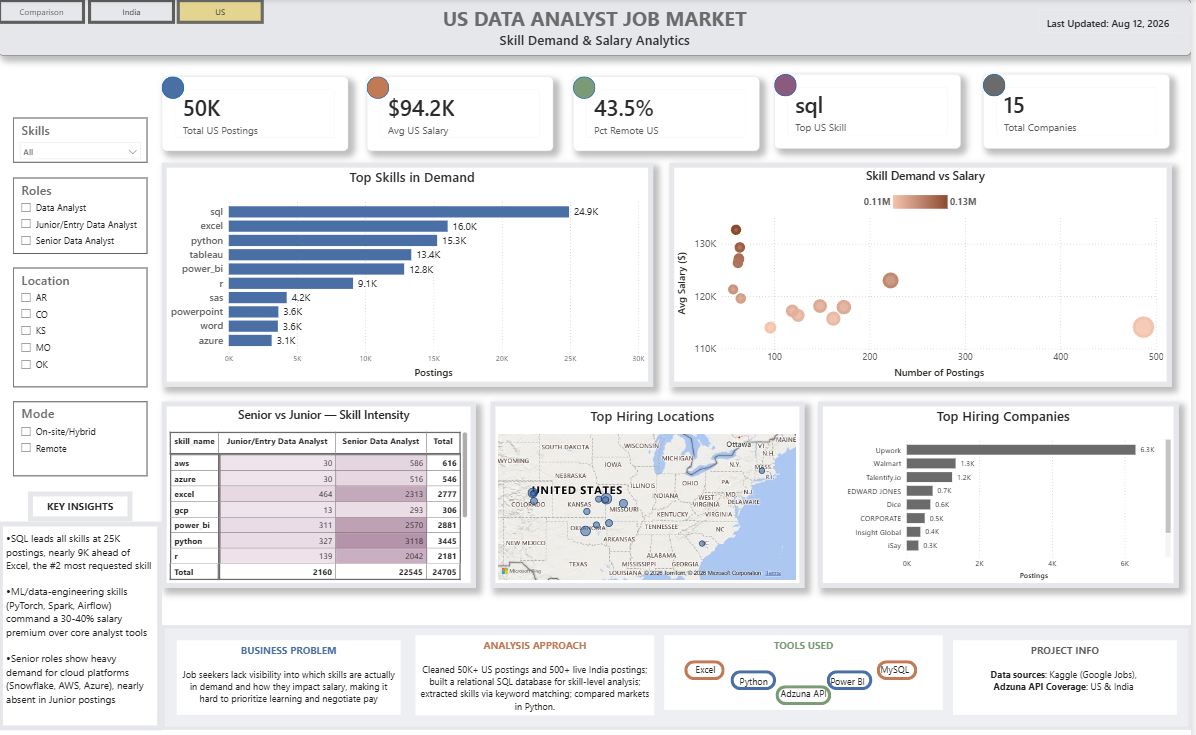

The page's visual inventory and layout, read from the dashboard file:
{"tool":"powerbi","page":{"name":"US overview","canvas":[1920,1200],"ordinal":0},"visuals":[{"type":"textbox","box":[0,0,1920,91],"z":0},{"type":"cardVisual","fields":{"Data":["_Measures.Top US Skill"]},"box":[1248,120,300,120],"z":0,"group":"g4"},{"type":"cardVisual","fields":{"Data":["Parameter.Total Companies"]},"box":[1584,120,300,120],"z":0,"group":"g5"},{"type":"cardVisual","fields":{"Data":["_Measures.Total US Postings"]},"box":[264,124.8,300,120],"z":0,"group":"g1"},{"type":"cardVisual","fields":{"Data":["_Measures.Avg US Salary"]},"box":[594,124.8,300,120],"z":0,"group":"g2"},{"type":"cardVisual","fields":{"Data":["_Measures.Pct Remote US"]},"box":[924,124.8,300,120],"z":0,"group":"g3"},{"type":"shape","box":[1248,120,36,36],"z":1000,"group":"g4"},{"type":"shape","box":[1584,120,36,36],"z":1000,"group":"g5"},{"type":"shape","box":[264,124.8,36,36],"z":1000,"group":"g1"},{"type":"shape","box":[594,124.8,36,36],"z":1000,"group":"g2"},{"type":"shape","box":[924,124.8,36,36],"z":1000,"group":"g3"},{"type":"slicer","fields":{"Values":["SkillDim.skill_name"]},"box":[24,192,216,72],"z":1000},{"type":"slicer","fields":{"Values":["title_breakdown.title_clean"]},"box":[24,288,216,122],"z":2000},{"type":"slicer","fields":{"Values":["top_locations.location_state"]},"box":[24,432,216,192],"z":3000},{"type":"slicer","fields":{"Values":["remote_vs_onsite.is_remote"]},"box":[24,648,216,120],"z":4000},{"type":"group","id":"g1","title":"Group 1","box":[264,124.8,312,120],"z":5000},{"type":"group","id":"g2","title":"Group 1","box":[594,124.8,312,120],"z":6000},{"type":"group","id":"g3","title":"Group 1","box":[924,124.8,312,120],"z":7000},{"type":"group","id":"g4","title":"Group 1","box":[1248,120,312,144],"z":8000},{"type":"group","id":"g5","title":"Group 1","box":[1584,120,288,144],"z":9000},{"type":"clusteredBarChart","title":"Top Skills in Demand","fields":{"Y":["Sum(skill_demand.posting_count)"],"Category":["skill_demand.skill_name"]},"box":[264,264,790,360],"z":10000},{"type":"scatterChart","title":"Skill Demand vs Salary","fields":{"X":["Sum(salary_by_skill.posting_count)"],"Y":["Sum(salary_by_skill.avg_salary)"],"Size":["Sum(salary_by_skill.posting_count)"],"Category":["salary_by_skill.skill_name"]},"box":[1080,264,808,360],"z":11000},{"type":"pivotTable","title":"Senior vs Junior — Skill Intensity","fields":{"Rows":["senior_vs_junior_skills.skill_name"],"Columns":["senior_vs_junior_skills.title_clean"],"Values":["Sum(senior_vs_junior_skills.posting_count)"]},"box":[264,648,505,300],"z":12000},{"type":"map","title":"Top Hiring Locations","fields":{"Category":["top_locations.location_city"],"Size":["Sum(top_locations.posting_count)"]},"box":[792,648,505,300],"z":13000},{"type":"clusteredBarChart","title":"Top Hiring Companies","fields":{"Category":["top_companies.company_name"],"Y":["Sum(top_companies.posting_count)"]},"box":[1320,648,580,300],"z":14000},{"type":"textbox","box":[48,792,168,48],"z":15000},{"type":"textbox","box":[0,840,264,336],"z":16000},{"type":"shape","box":[264,1008,1656,168],"z":17000},{"type":"textbox","box":[288,1032,360,120],"z":18000},{"type":"textbox","box":[672,1024,384,129],"z":19000},{"type":"textbox","box":[1536,1032,360,120],"z":20000},{"type":"group","id":"g6","title":"Group 2","box":[1072,1024,448,128],"z":21000},{"type":"textbox","box":[1072,1024,448.1,120],"z":21000,"group":"g6"},{"type":"shape","box":[1104.6,1064,65.2,32],"z":21500,"group":"g6"},{"type":"actionButton","box":[0,0,140,40],"z":22000},{"type":"actionButton","box":[144,0,140,40],"z":23000},{"type":"shape","box":[1414.2,1064,65.2,32],"z":23000,"group":"g6"},{"type":"actionButton","box":[288,0,140,40],"z":24000},{"type":"shape","box":[1177.9,1080,73.3,32],"z":24000,"group":"g6"},{"type":"cardVisual","fields":{"Data":["Parameter.Last Updated"]},"box":[1656,0,264,72],"z":25000},{"type":"shape","box":[1332.7,1080,73.3,32],"z":25000,"group":"g6"},{"type":"shape","box":[1251.3,1104,89.6,32],"z":26000,"group":"g6"}]}

Visuals, with their boxes in screenshot pixels (x1, y1, x2, y2), scaled from the page's 1920x1200 canvas onto the 1196x735 screenshot:
textbox: box=[0, 0, 1195, 56]
cardVisual - _Measures.Top US Skill: box=[777, 74, 964, 147]
cardVisual - Parameter.Total Companies: box=[987, 74, 1174, 147]
cardVisual - _Measures.Total US Postings: box=[164, 76, 351, 150]
cardVisual - _Measures.Avg US Salary: box=[370, 76, 557, 150]
cardVisual - _Measures.Pct Remote US: box=[576, 76, 762, 150]
shape: box=[777, 74, 800, 96]
shape: box=[987, 74, 1009, 96]
shape: box=[164, 76, 187, 98]
shape: box=[370, 76, 392, 98]
shape: box=[576, 76, 598, 98]
slicer - SkillDim.skill_name: box=[15, 118, 150, 162]
slicer - title_breakdown.title_clean: box=[15, 176, 150, 251]
slicer - top_locations.location_state: box=[15, 265, 150, 382]
slicer - remote_vs_onsite.is_remote: box=[15, 397, 150, 470]
"Group 1" group: box=[164, 76, 359, 150]
"Group 1" group: box=[370, 76, 564, 150]
"Group 1" group: box=[576, 76, 770, 150]
"Group 1" group: box=[777, 74, 972, 162]
"Group 1" group: box=[987, 74, 1166, 162]
"Top Skills in Demand" clusteredBarChart: box=[164, 162, 657, 382]
"Skill Demand vs Salary" scatterChart: box=[673, 162, 1176, 382]
"Senior vs Junior — Skill Intensity" pivotTable: box=[164, 397, 479, 581]
"Top Hiring Locations" map: box=[493, 397, 808, 581]
"Top Hiring Companies" clusteredBarChart: box=[822, 397, 1184, 581]
textbox: box=[30, 485, 135, 514]
textbox: box=[0, 514, 164, 720]
shape: box=[164, 617, 1195, 720]
textbox: box=[179, 632, 404, 706]
textbox: box=[419, 627, 658, 706]
textbox: box=[957, 632, 1181, 706]
"Group 2" group: box=[668, 627, 947, 706]
textbox: box=[668, 627, 947, 701]
shape: box=[688, 652, 729, 671]
actionButton: box=[0, 0, 87, 24]
actionButton: box=[90, 0, 177, 24]
shape: box=[881, 652, 922, 671]
actionButton: box=[179, 0, 267, 24]
shape: box=[734, 662, 779, 681]
cardVisual - Parameter.Last Updated: box=[1032, 0, 1195, 44]
shape: box=[830, 662, 876, 681]
shape: box=[779, 676, 835, 696]
